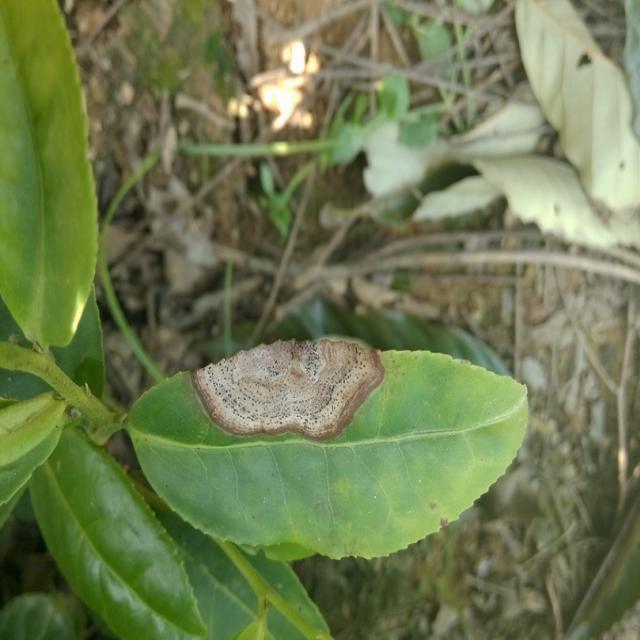Tea cloud leaf blight: (192, 332, 387, 436)
